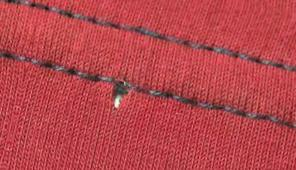hole: (109, 89, 130, 112)
